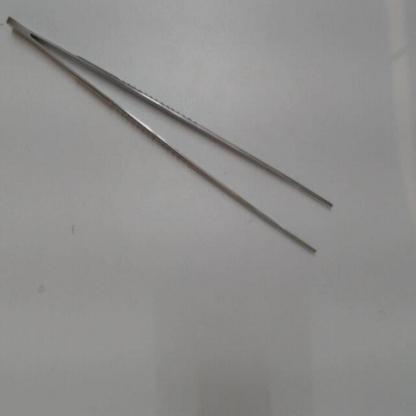DeBakey Dissector: (6, 6, 354, 291)
